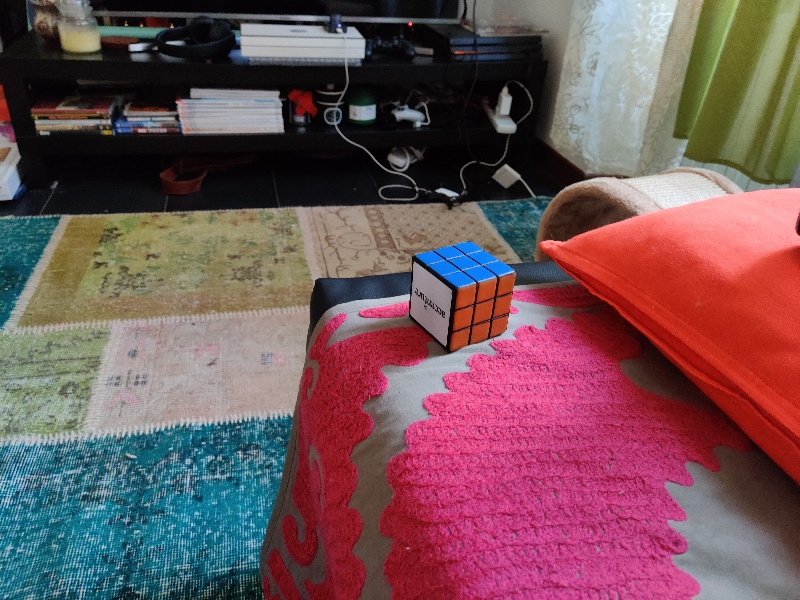rubik: (407, 241, 516, 353)
